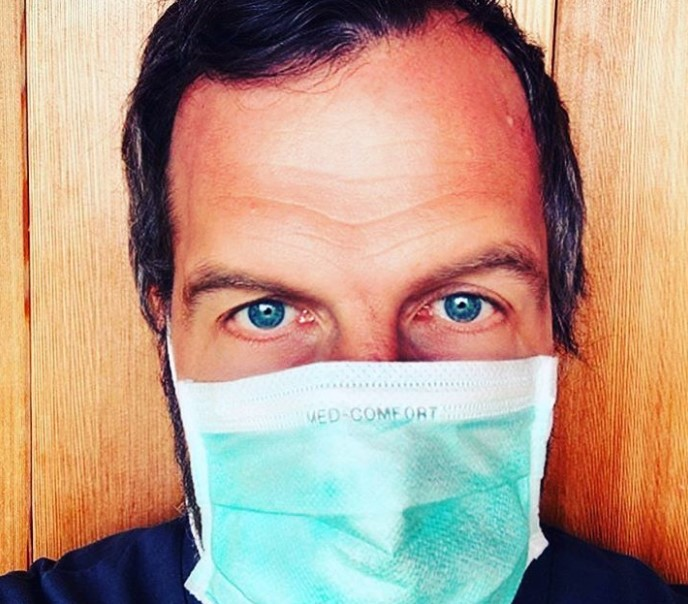face_with_mask: (133, 8, 565, 603)
